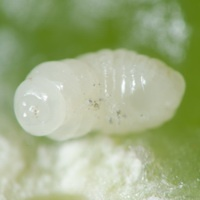insect: (14, 50, 184, 139)
